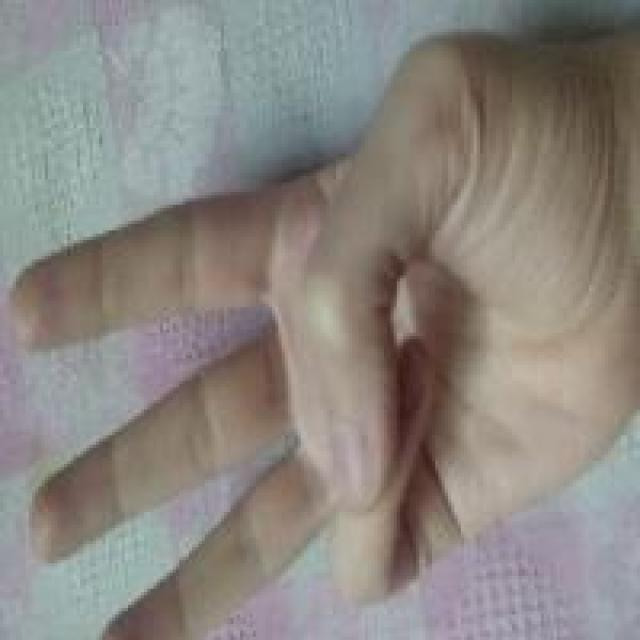W: (0, 3, 614, 640)
